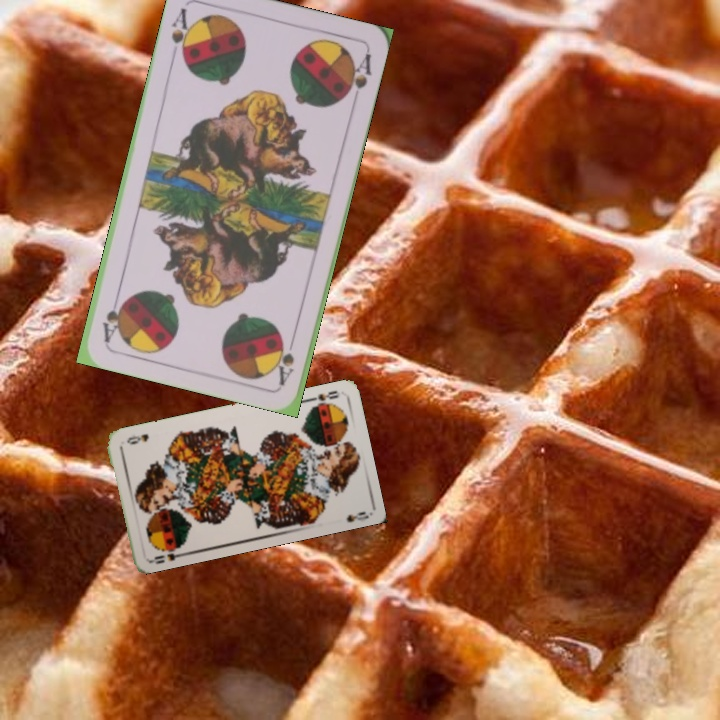SA: (167, 4, 195, 63), (273, 329, 299, 387)
SO: (145, 542, 185, 566), (303, 386, 341, 405)
